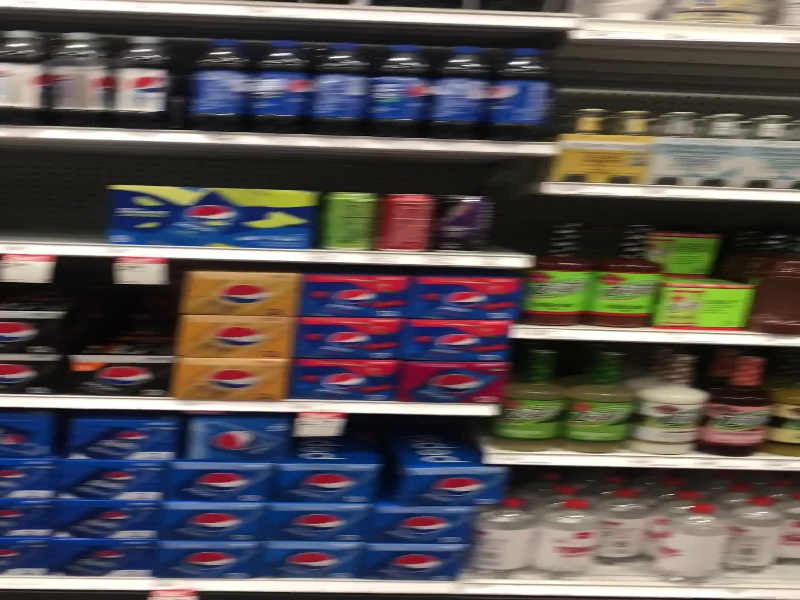void: (1, 143, 103, 244)
